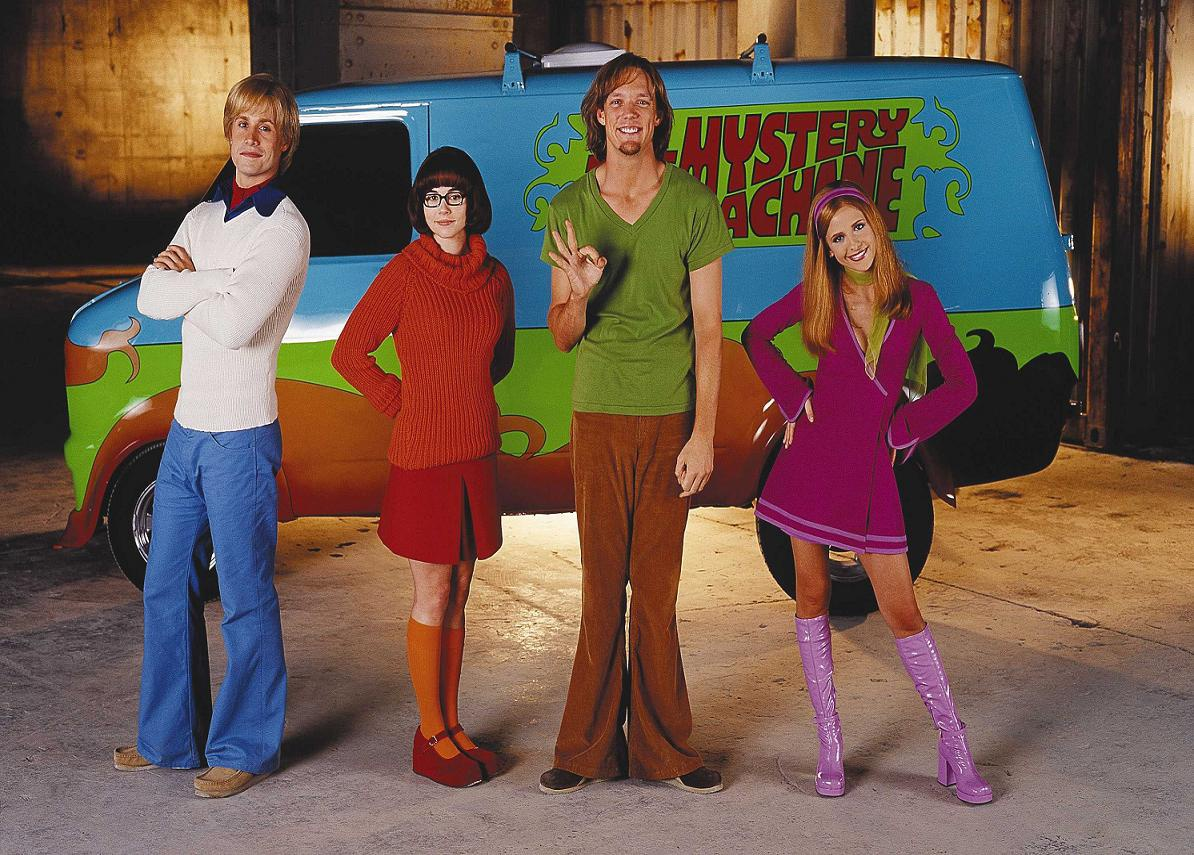bad: (598, 87, 660, 149), (826, 216, 878, 268), (417, 182, 469, 234), (227, 113, 279, 164)
